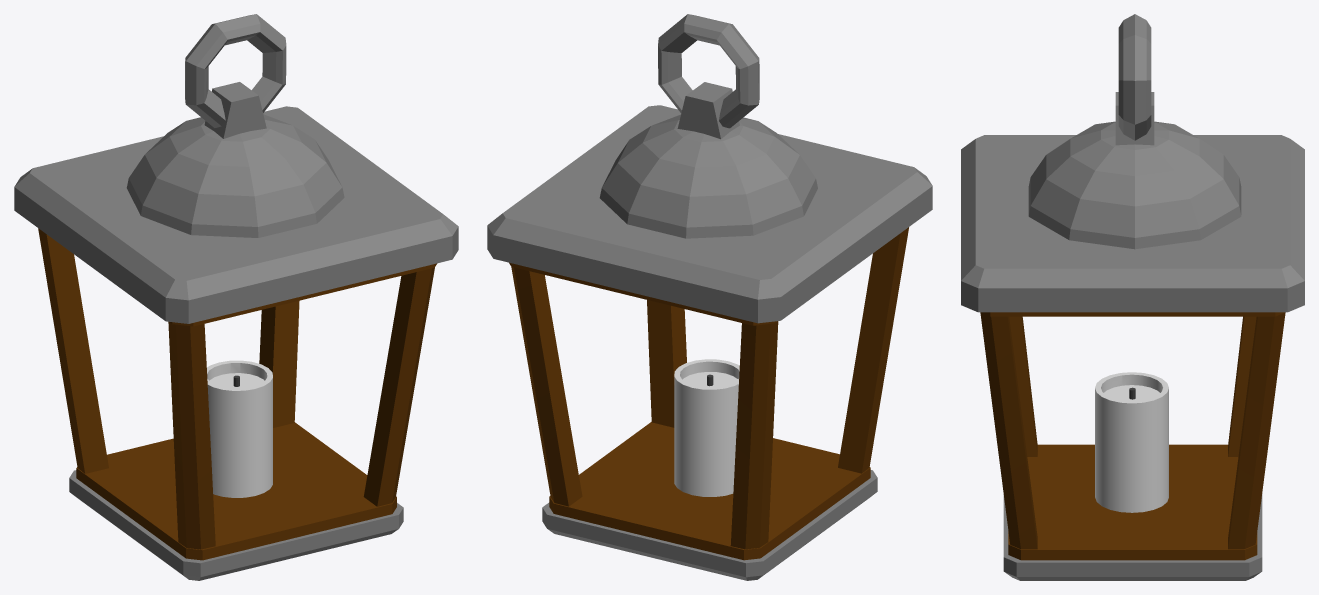
File: lantern.fbx
The picture shows the model from 3 angles, left to right: view 1: azimuth 30°, elevation 25°; view 2: azimuth 150°, elevation 25°; view 3: azimuth 270°, elevation 25°; orthographic projection. The views are drawn at different scales.
Parts seen in each view (by area): view 1: polySurface6; view 2: polySurface6; view 3: polySurface6.
Part boxes in pixels (bbox=[...]): polySurface6: bbox=[14, 14, 458, 580]; polySurface6: bbox=[487, 14, 932, 580]; polySurface6: bbox=[961, 14, 1304, 580].
Bounding box in the file's own units: 2.02 × 3.26 × 2.01.
1 material, 1 textured.
